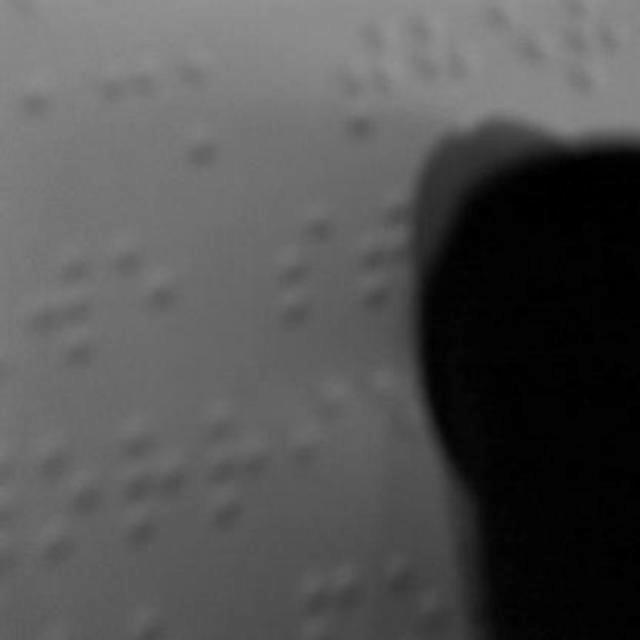braiile: (292, 370, 362, 520), (36, 416, 106, 560), (206, 386, 278, 524), (120, 399, 188, 543), (182, 46, 254, 166), (113, 220, 179, 350), (33, 243, 97, 369), (278, 199, 338, 329), (99, 50, 165, 166), (354, 186, 414, 312)
